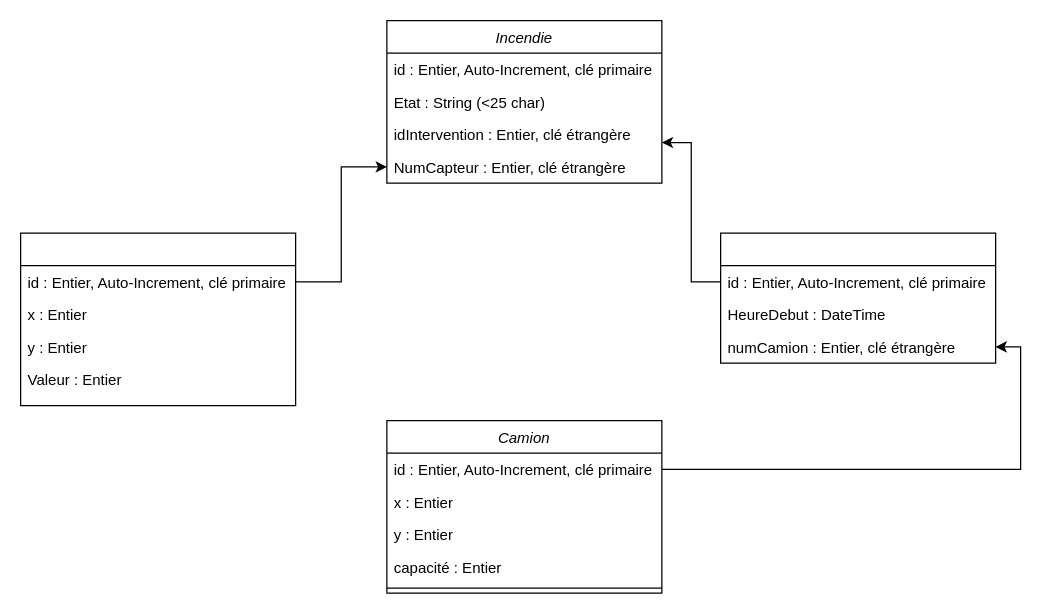
This 1041x614 diagram has some shape labels left out. The box of each missing label's shape, as (x1, y1, x2, y2) in pixels:
Capteur: (19, 232, 296, 406)
Intervention: (719, 232, 996, 363)
